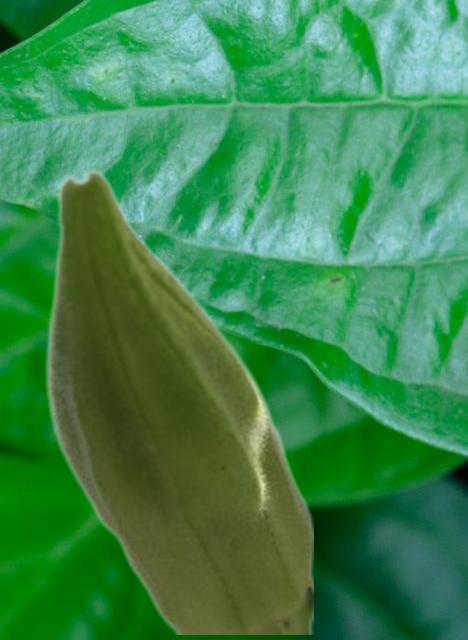okra: (44, 168, 312, 633)
